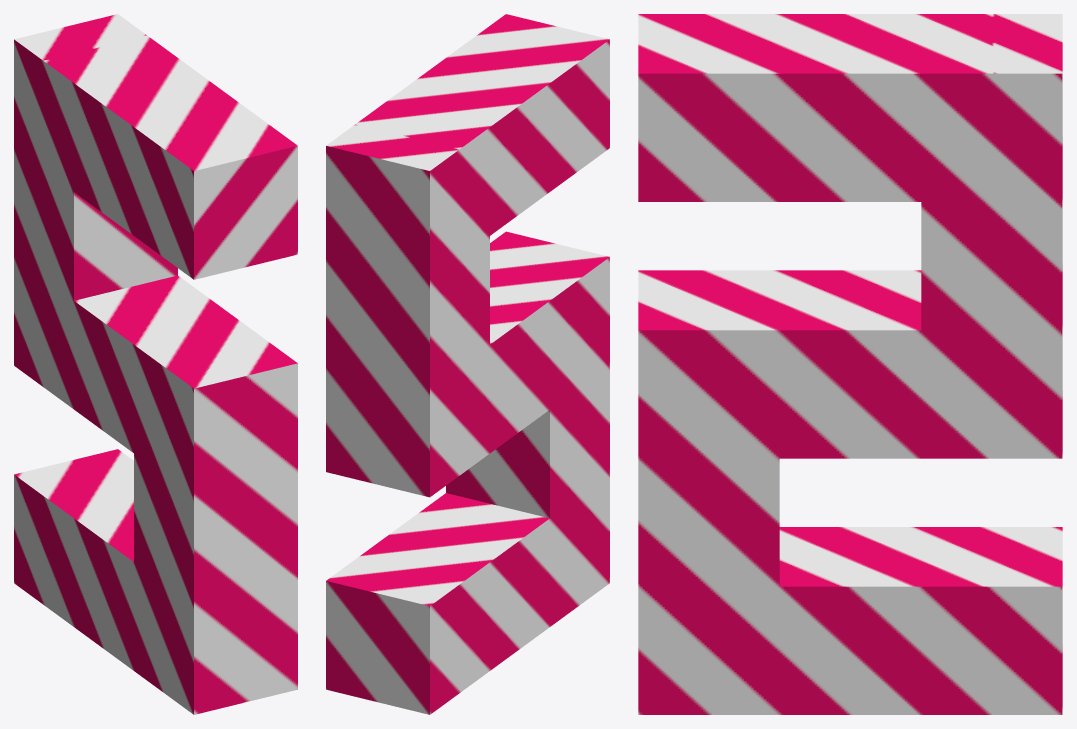
The model's file is Twoblend.fbx.
3 views of the same model, side by side, from view 1: azimuth 30°, elevation 25°; view 2: azimuth 150°, elevation 25°; view 3: azimuth 270°, elevation 25° (orthographic). The views are drawn at different scales.
Parts seen in each view (by area): view 1: Cube; view 2: Cube; view 3: Cube.
Boxes of the visible parts, left/top/right/bottom form: Cube: left=14, top=14, right=297, bottom=714; Cube: left=326, top=14, right=609, bottom=714; Cube: left=638, top=14, right=1062, bottom=714.
Size of the model in its own units: 200 by 1000 by 600.
